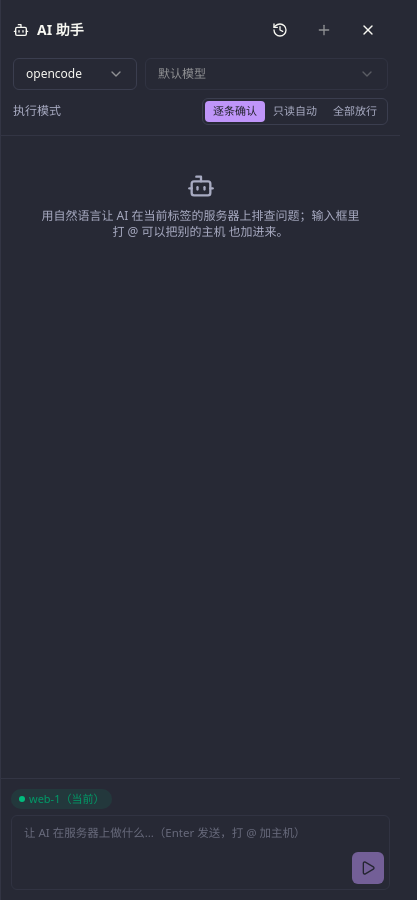
历史列表 › 每条可以删除
Click the button titled "历史会话".
click(280, 30)  # box 260,10 -> 300,50
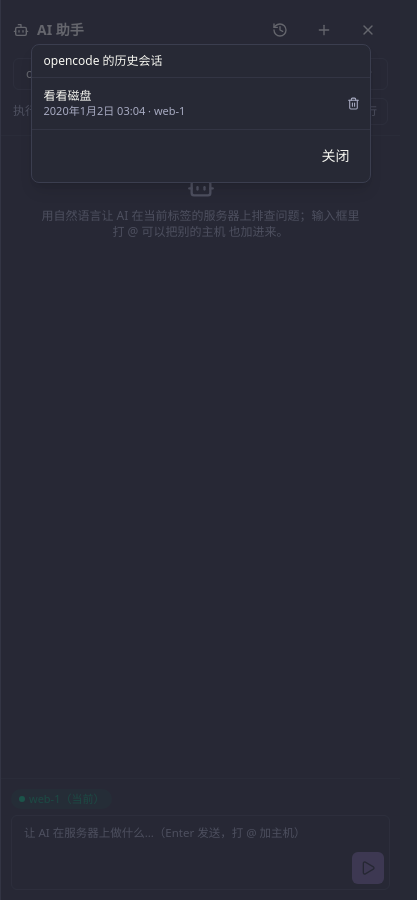
Click the button named "删除".
click(353, 103)  # box 340,91 -> 366,116
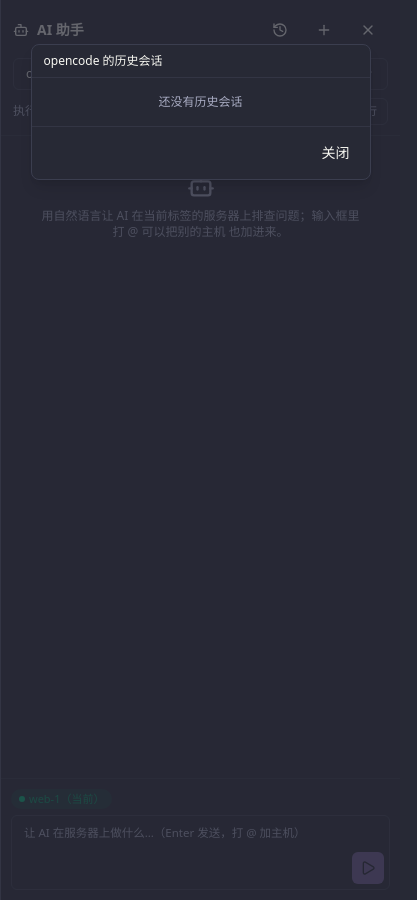
Check: the text "还没有历史会话" is shown, box 158,93 -> 242,110
